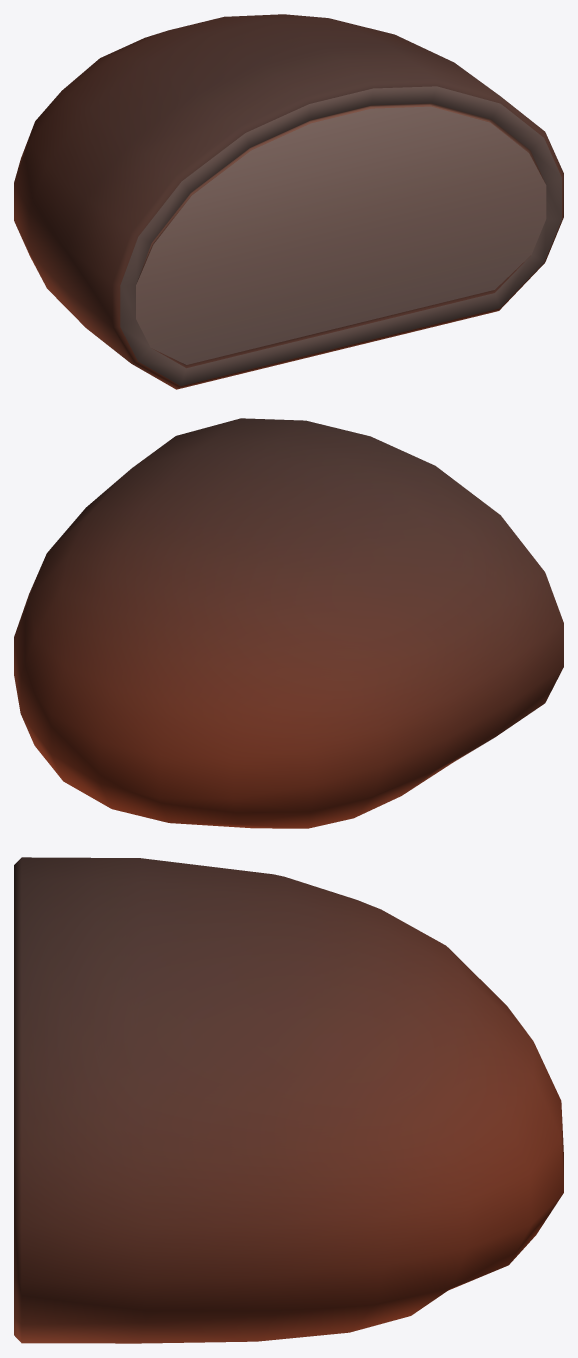
The model's file is bread_002.fbx.
The picture shows the model from 3 angles, top to bottom: view 1: azimuth 30°, elevation 25°; view 2: azimuth 150°, elevation 25°; view 3: azimuth 270°, elevation 25°; orthographic projection. The views are drawn at different scales.
Parts seen in each view (by area): view 1: bread_002; view 2: bread_002; view 3: bread_002.
Part boxes in pixels (bbox=[...]): bread_002: bbox=[14, 14, 563, 389]; bread_002: bbox=[14, 418, 563, 828]; bread_002: bbox=[14, 857, 563, 1343].
Size of the model in its own units: 20.76 by 16.85 by 11.48.
